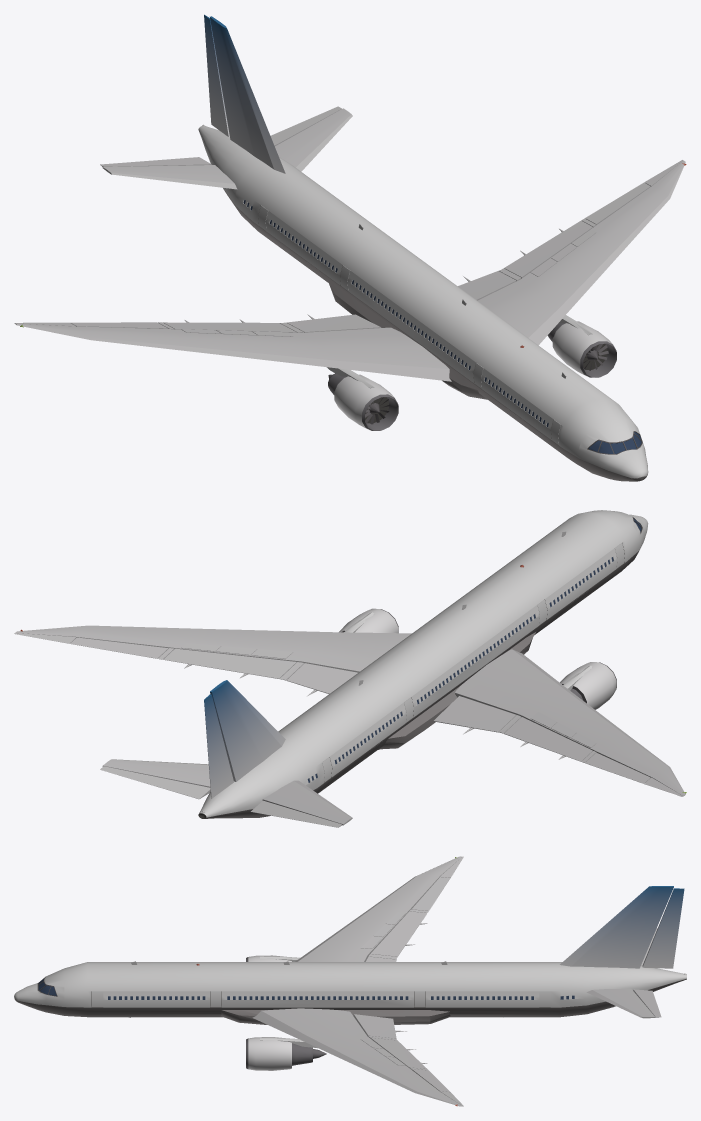
Rendered from boeing-777-300er.glb.
3 renders of one model, top to bottom at view 1: azimuth 30°, elevation 25°; view 2: azimuth 150°, elevation 25°; view 3: azimuth 270°, elevation 25°, orthographic. The views are drawn at different scales.
Size of the model in its own units: 64.8 by 17.19 by 73.9.
